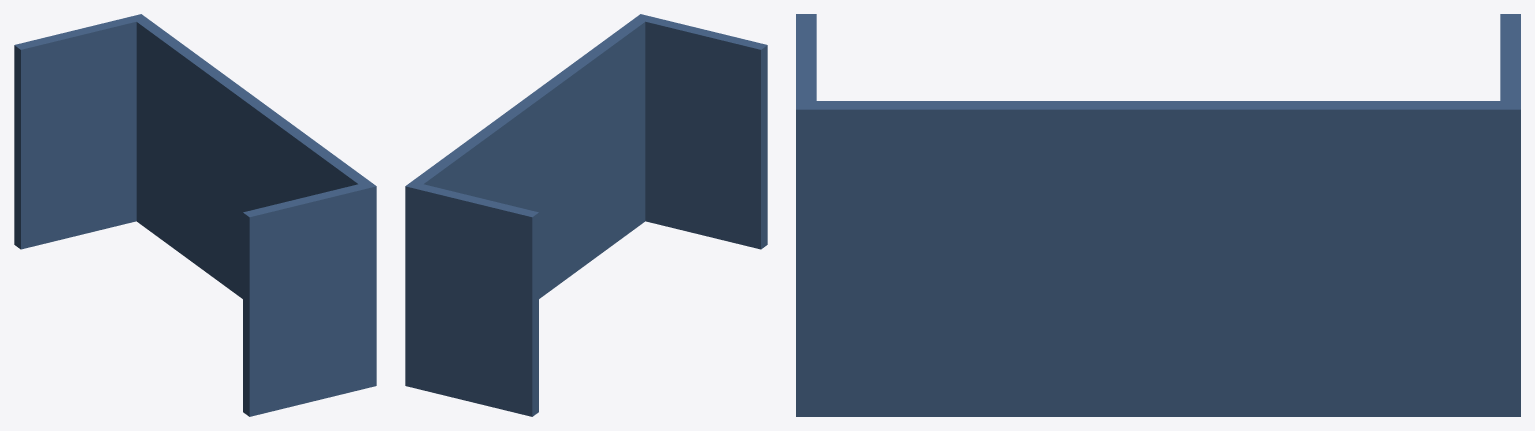
Rendered from Structure_Wall_Stairwell_fbx_v02.fbx.
3 views of the same model, side by side, from view 1: azimuth 30°, elevation 25°; view 2: azimuth 150°, elevation 25°; view 3: azimuth 270°, elevation 25° (orthographic). The views are drawn at different scales.
Visible parts, largest first — view 1: Wall_Stairwell_Long; view 2: Wall_Stairwell_Long; view 3: Wall_Stairwell_Long.
Boxes of the visible parts, <box> form: Wall_Stairwell_Long: <box>14,14,376,416</box>; Wall_Stairwell_Long: <box>405,14,767,416</box>; Wall_Stairwell_Long: <box>796,14,1520,416</box>.
Size of the model in its own units: 1100 by 1650 by 3526.
